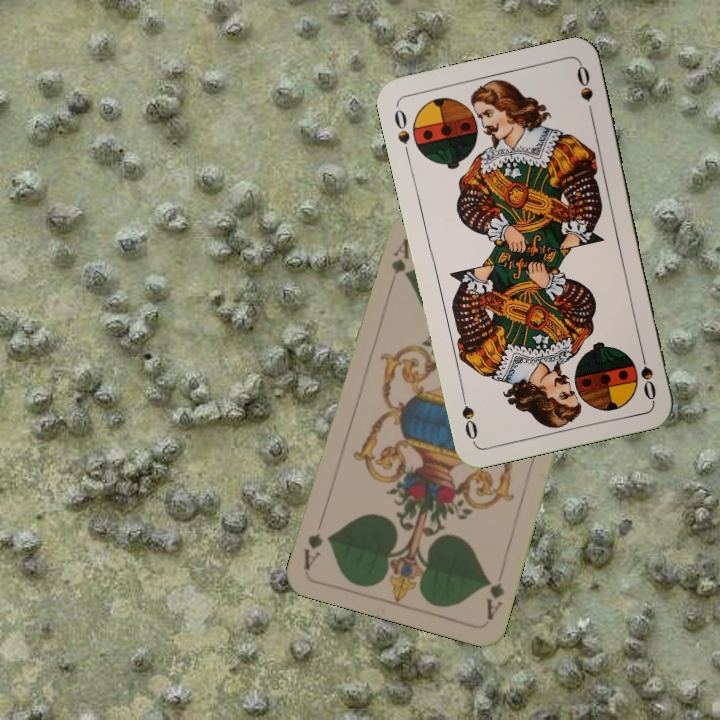GA: (481, 574, 507, 623), (387, 235, 412, 277)
SO: (636, 344, 659, 403), (390, 102, 413, 161)
